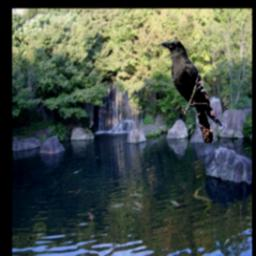Crow: (161, 40, 223, 144)
